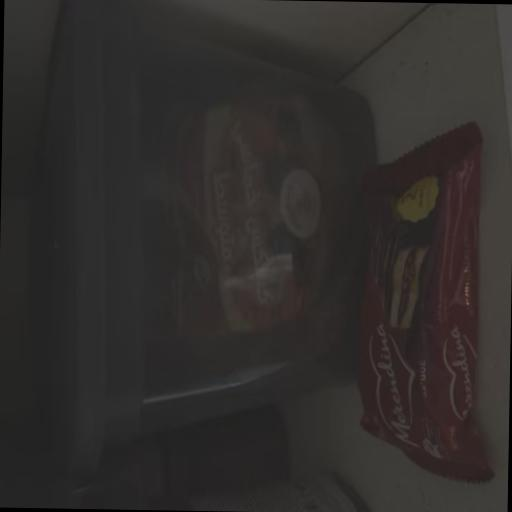merendina: (310, 127, 512, 504)
